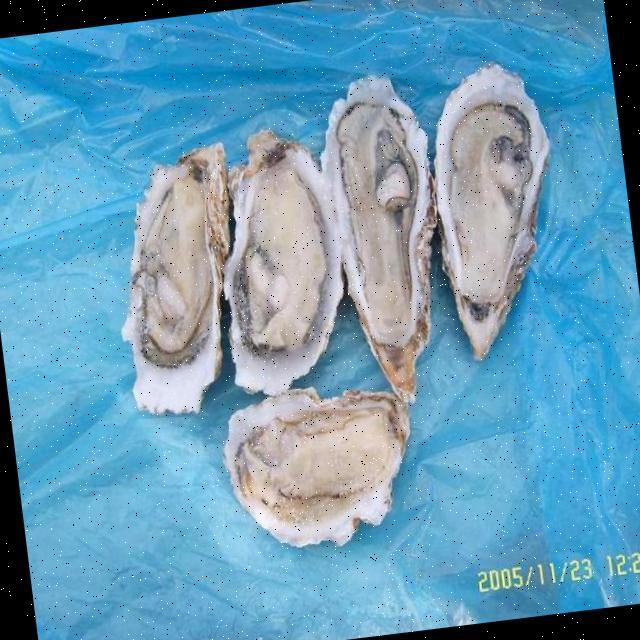Oyster-Open: (316, 72, 439, 404), (433, 64, 553, 362), (221, 128, 347, 396), (222, 386, 412, 550), (120, 138, 228, 414)
